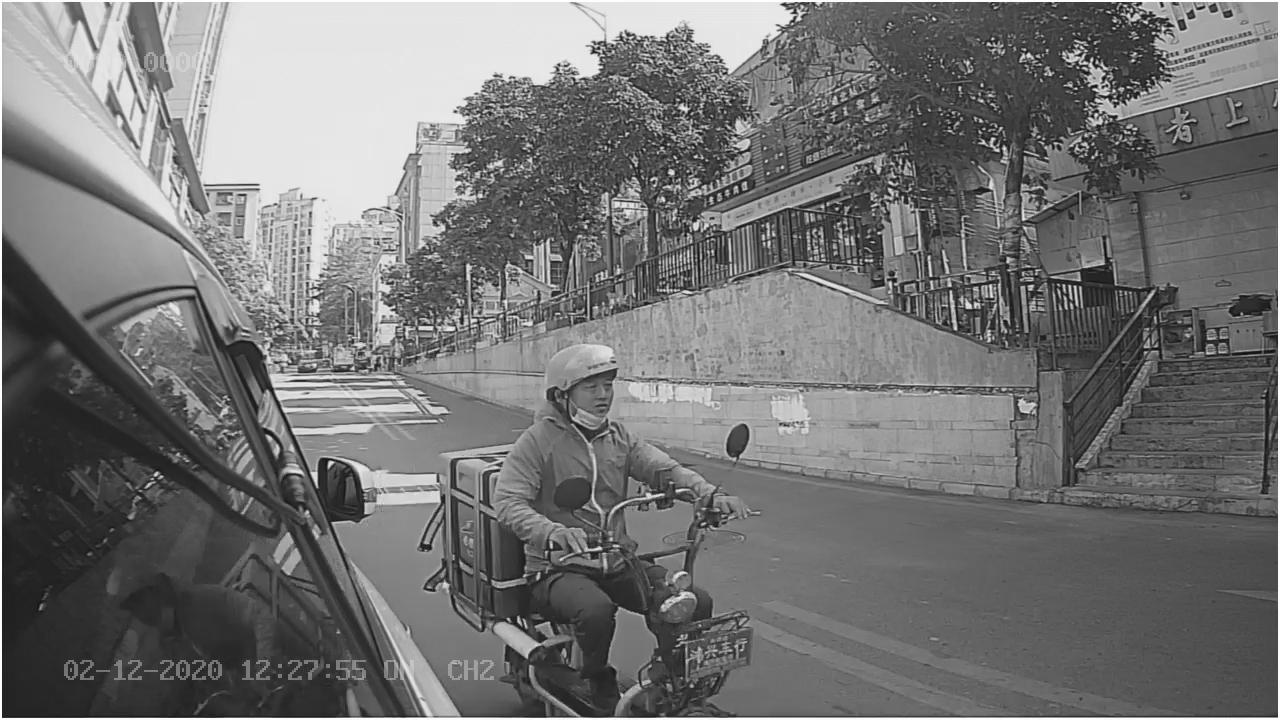person: (499, 335, 752, 554)
